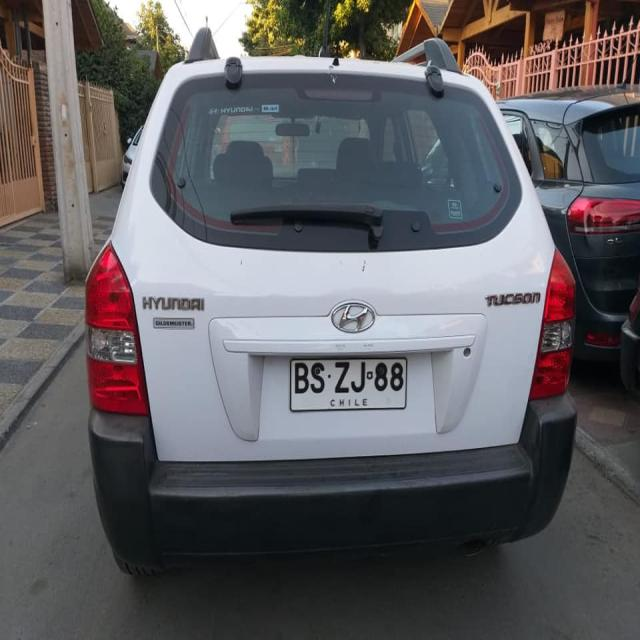patente: (289, 356, 407, 412)
